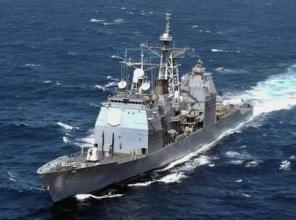warship: (32, 12, 254, 209)
